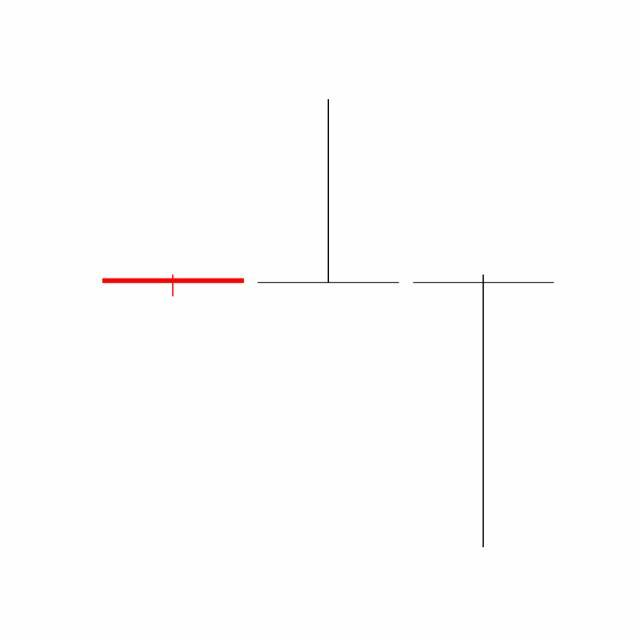Gravestone Doji: (250, 97, 407, 285)
